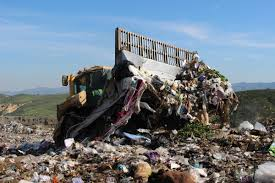garbage: (2, 136, 275, 180), (151, 67, 225, 183), (2, 122, 52, 183)
